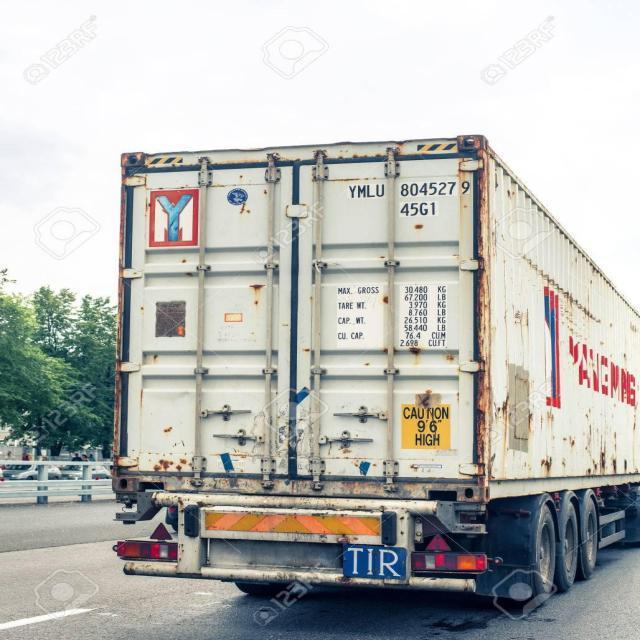covered: (116, 112, 640, 574)
